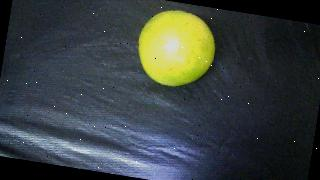LOCAL: (133, 5, 221, 92)
